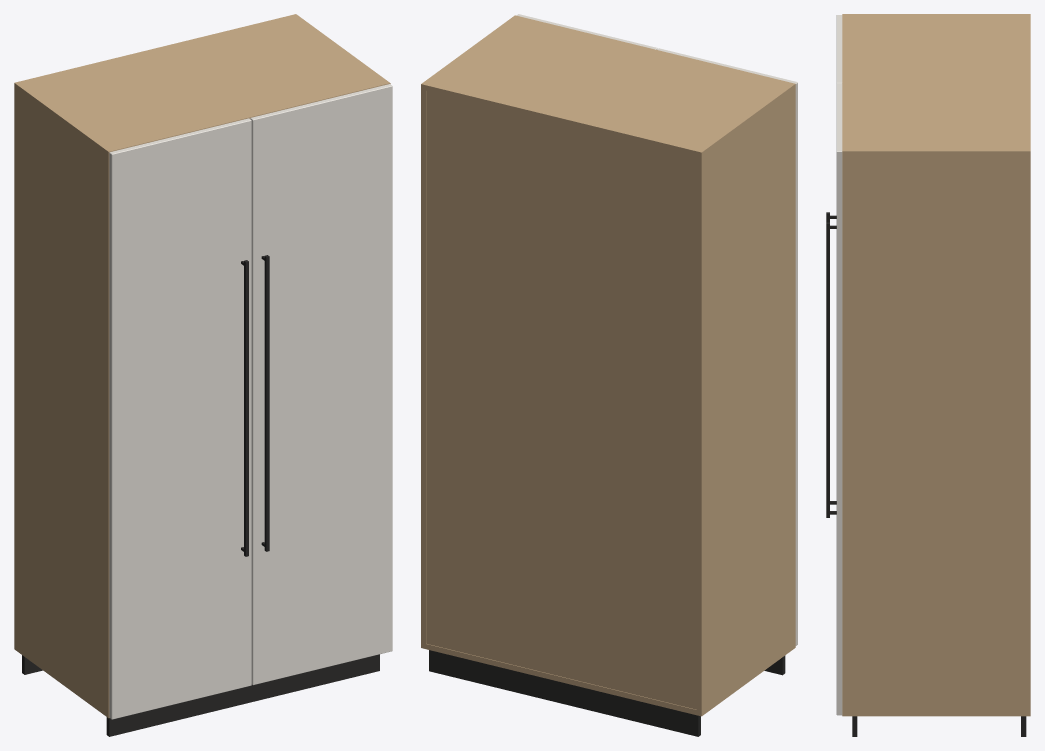
File: 01_szafa_2d_100.glb
3 renders of one model, left to right at view 1: azimuth 30°, elevation 25°; view 2: azimuth 150°, elevation 25°; view 3: azimuth 270°, elevation 25°, orthographic.
Parts seen in each view (by area): view 1: Korpus, Front_drzwi_1, Front_drzwi_2, Cokol, Uchwyty; view 2: Korpus, Cokol, Front_drzwi_1; view 3: Korpus, Front_drzwi_2, Uchwyty, Front_drzwi_1.
Part boxes in pixels (left/top/right/bottom): Korpus: left=14, top=14, right=390, bottom=718; Front_drzwi_1: left=109, top=118, right=251, bottom=719; Front_drzwi_2: left=250, top=84, right=392, bottom=685; Cokol: left=22, top=654, right=379, bottom=736; Uchwyty: left=241, top=255, right=269, bottom=556; Korpus: left=421, top=15, right=795, bottom=716; Cokol: left=429, top=650, right=785, bottom=736; Front_drzwi_1: left=657, top=48, right=797, bottom=645; Korpus: left=842, top=14, right=1030, bottom=716; Front_drzwi_2: left=836, top=83, right=842, bottom=715; Uchwyty: left=826, top=212, right=836, bottom=517; Front_drzwi_1: left=836, top=15, right=842, bottom=83.
Bounding box in the file's own units: 1 × 2 × 0.63.
